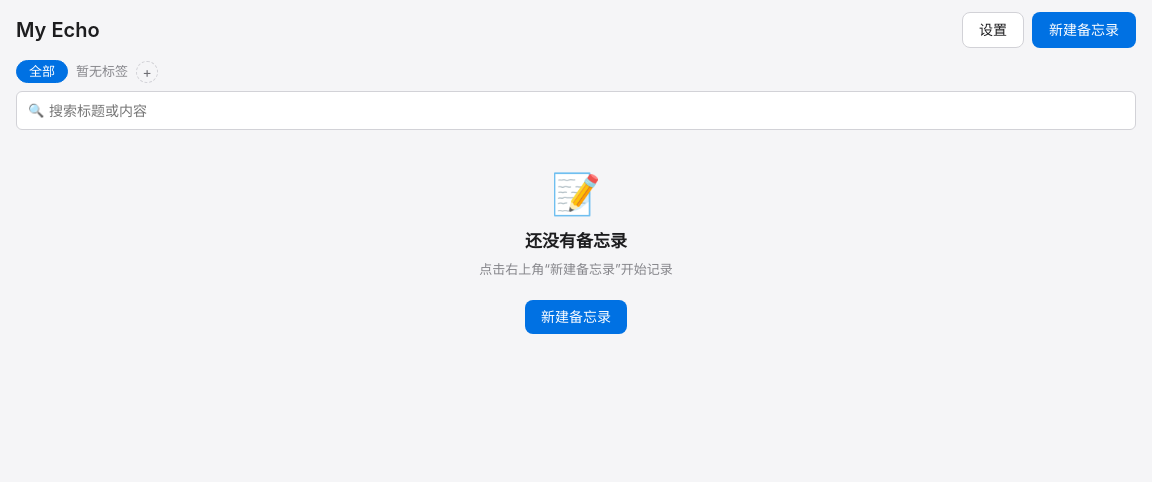
Test: App 关键流程 › 新建保存成功后回列表并刷新展示新条目
Click the button "新建备忘录" in the row of "My Echo" at (1084, 30), box [1032,12,1136,48]
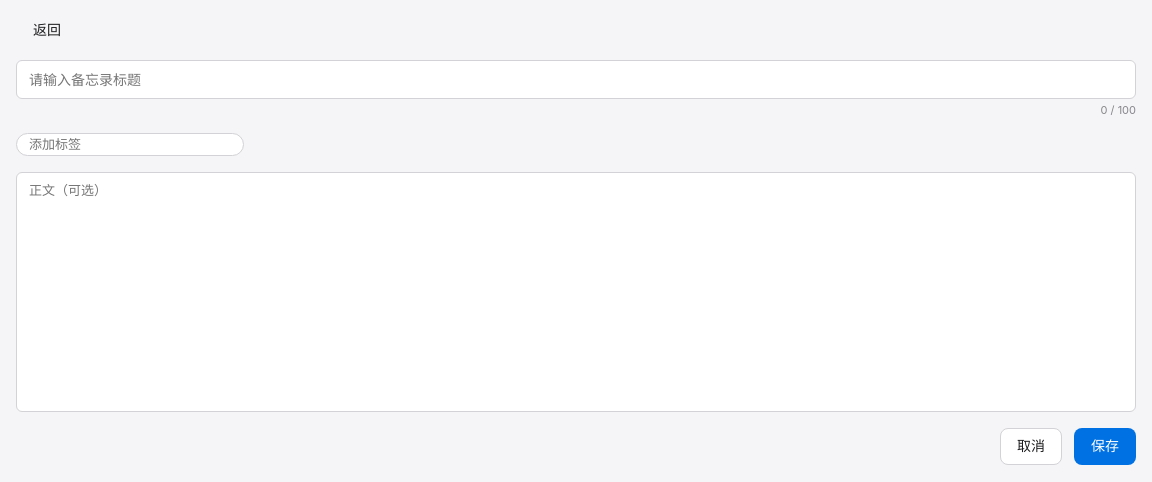
Type "新标题" into the field with placeholder "请输入备忘录标题" at (576, 80), box [16,60,1136,99]
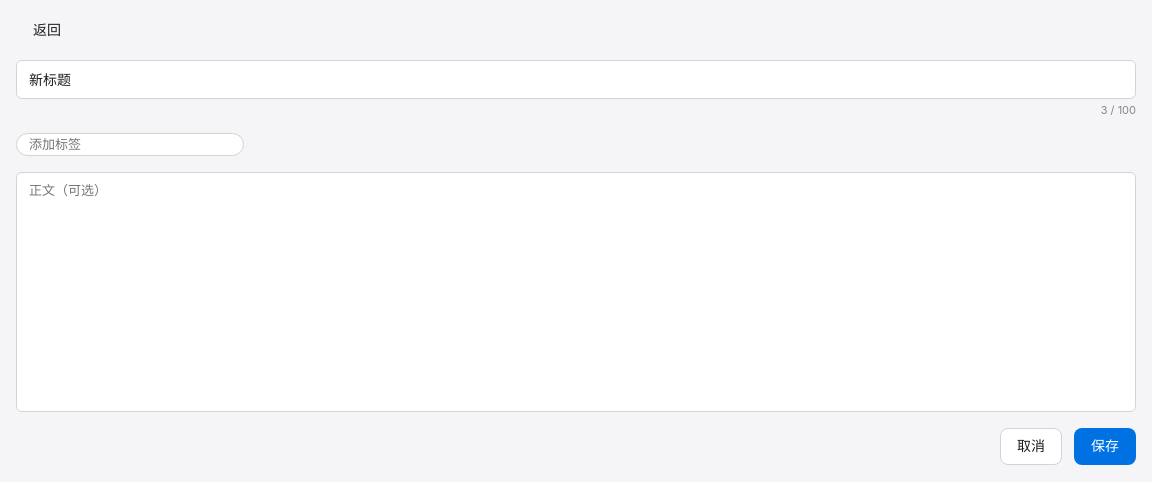
Submit the form
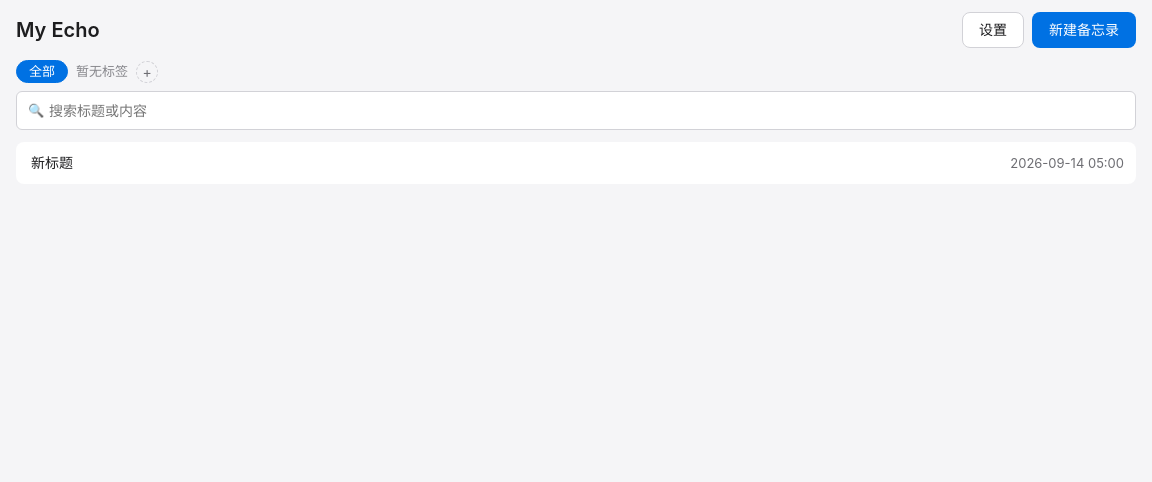
Result: the text "新标题" is shown at [31,154,73,171]
